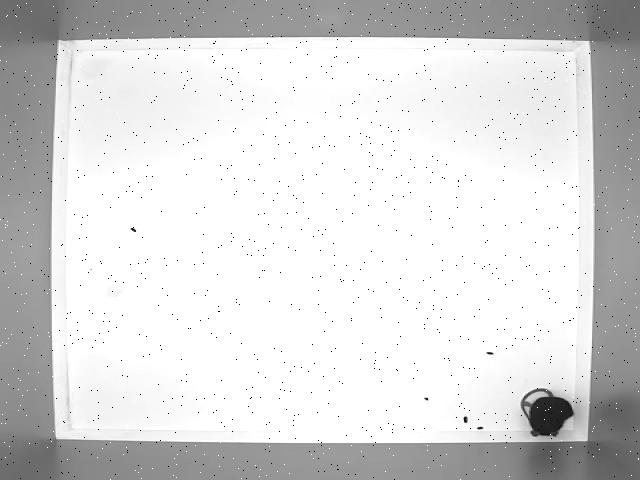Tikus: (518, 386, 576, 438)
